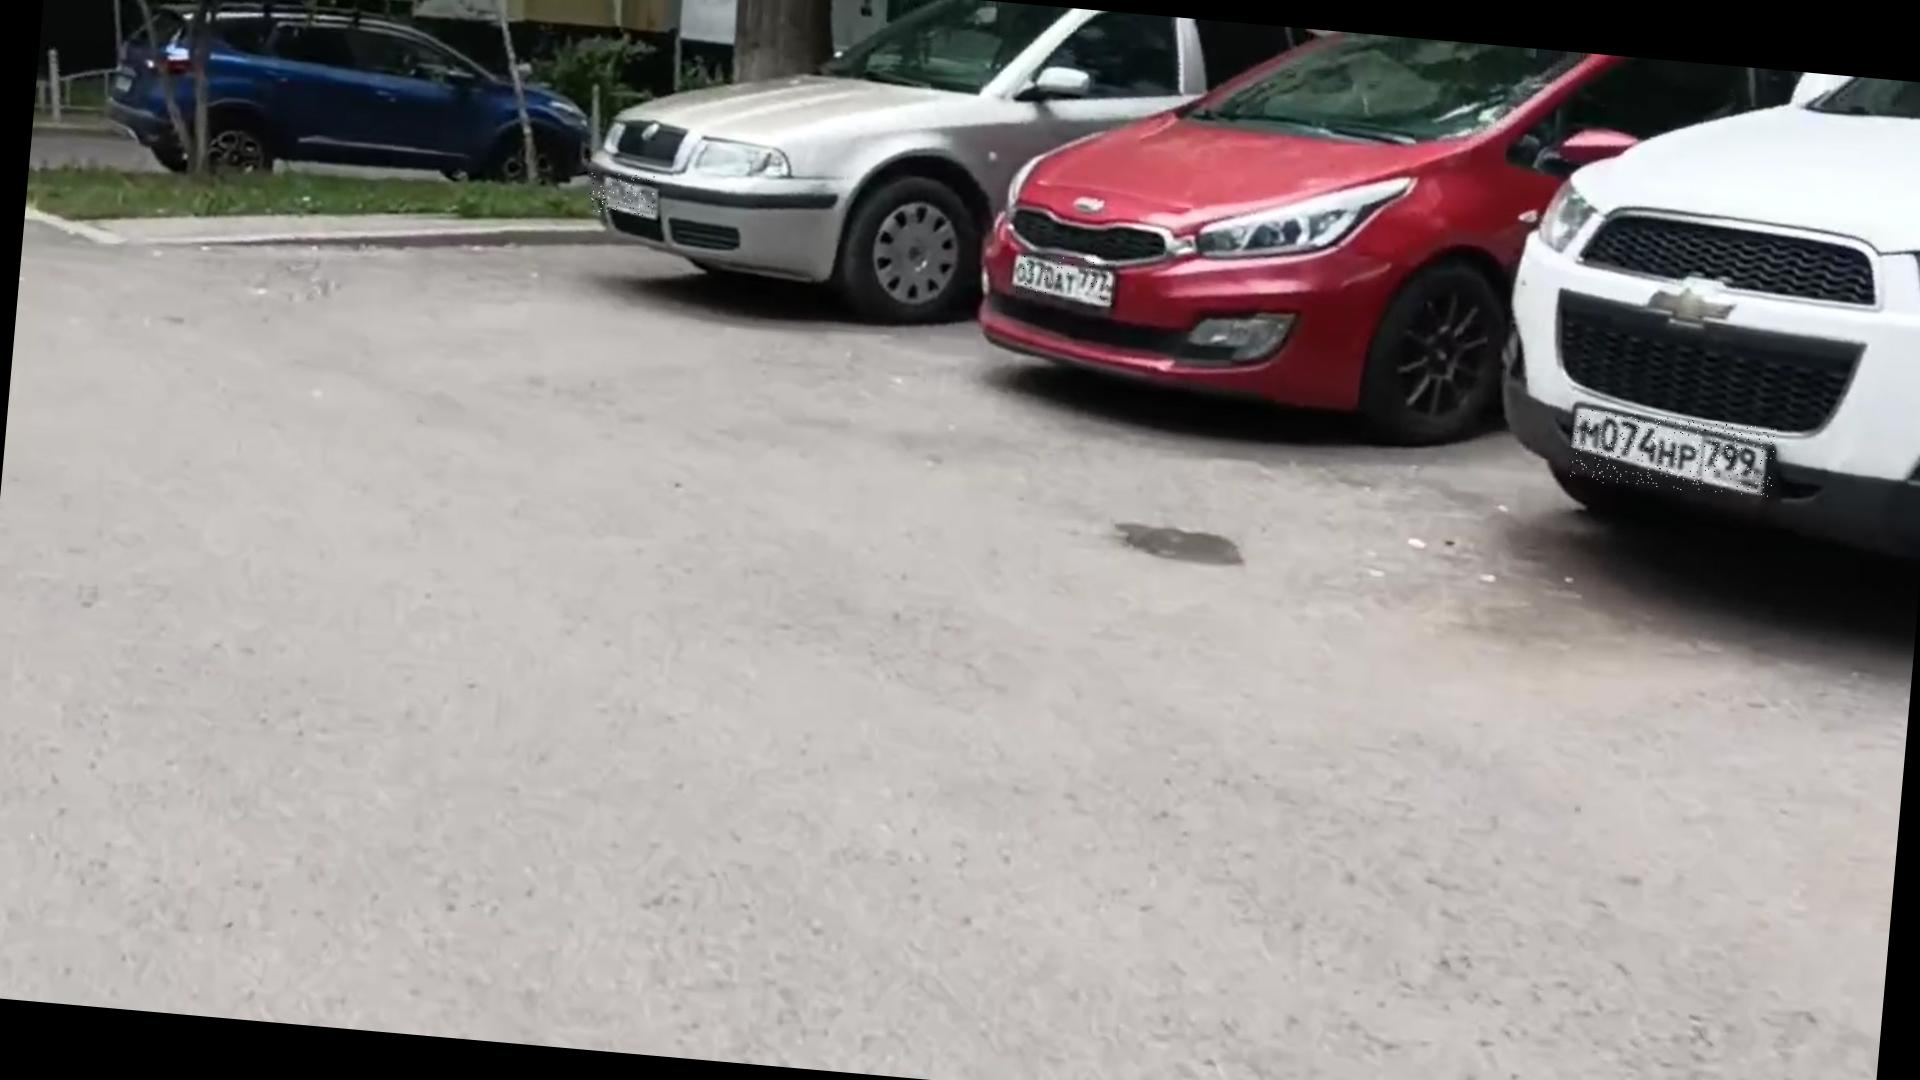plate: (1570, 410, 1779, 500), (1018, 254, 1118, 304), (586, 169, 657, 217)
